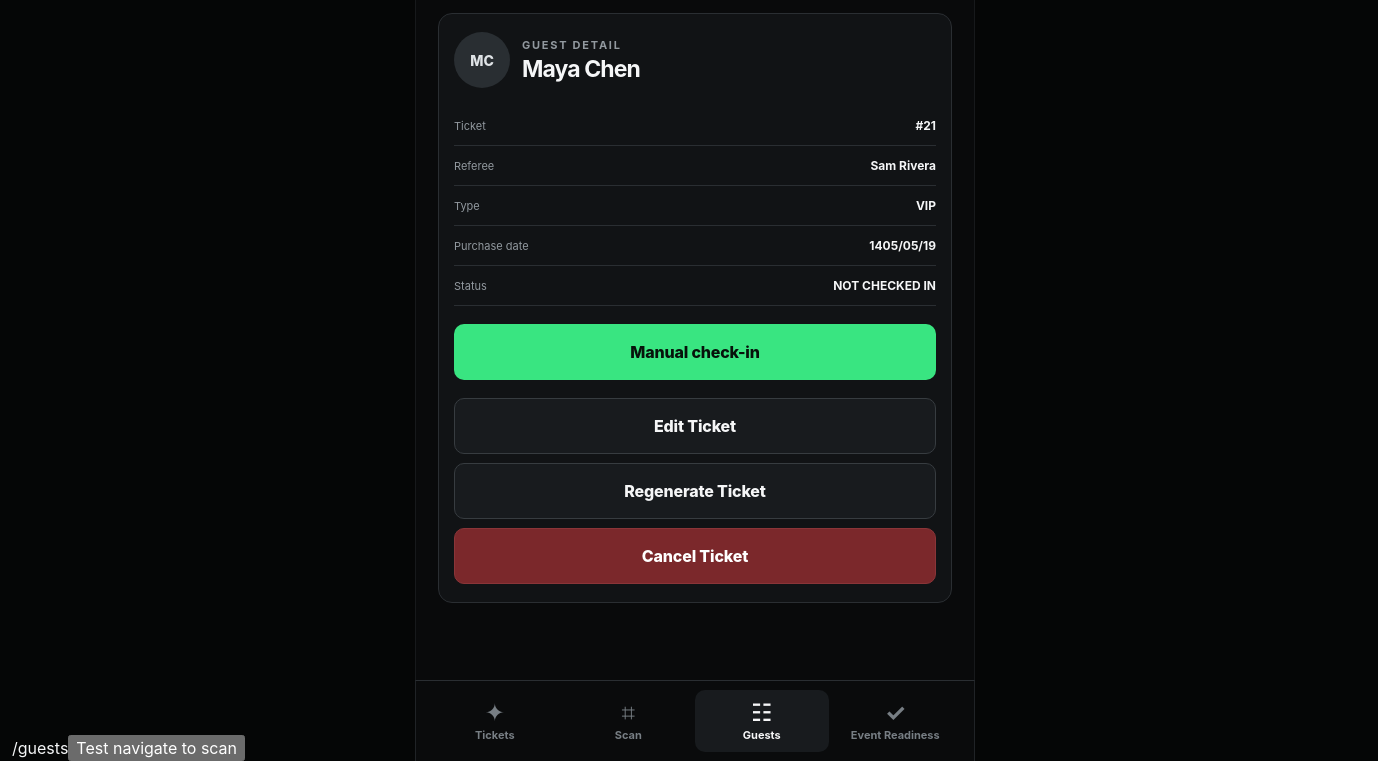
Test case: ticket correction UI › regenerates current artwork from the authoritative ticket record after a reload
The width and height of the screenshot is (1378, 761).
(page scrolled)
Click the button "Regenerate Ticket": x=695, y=492 [454,464,936,520]
(page scrolled)
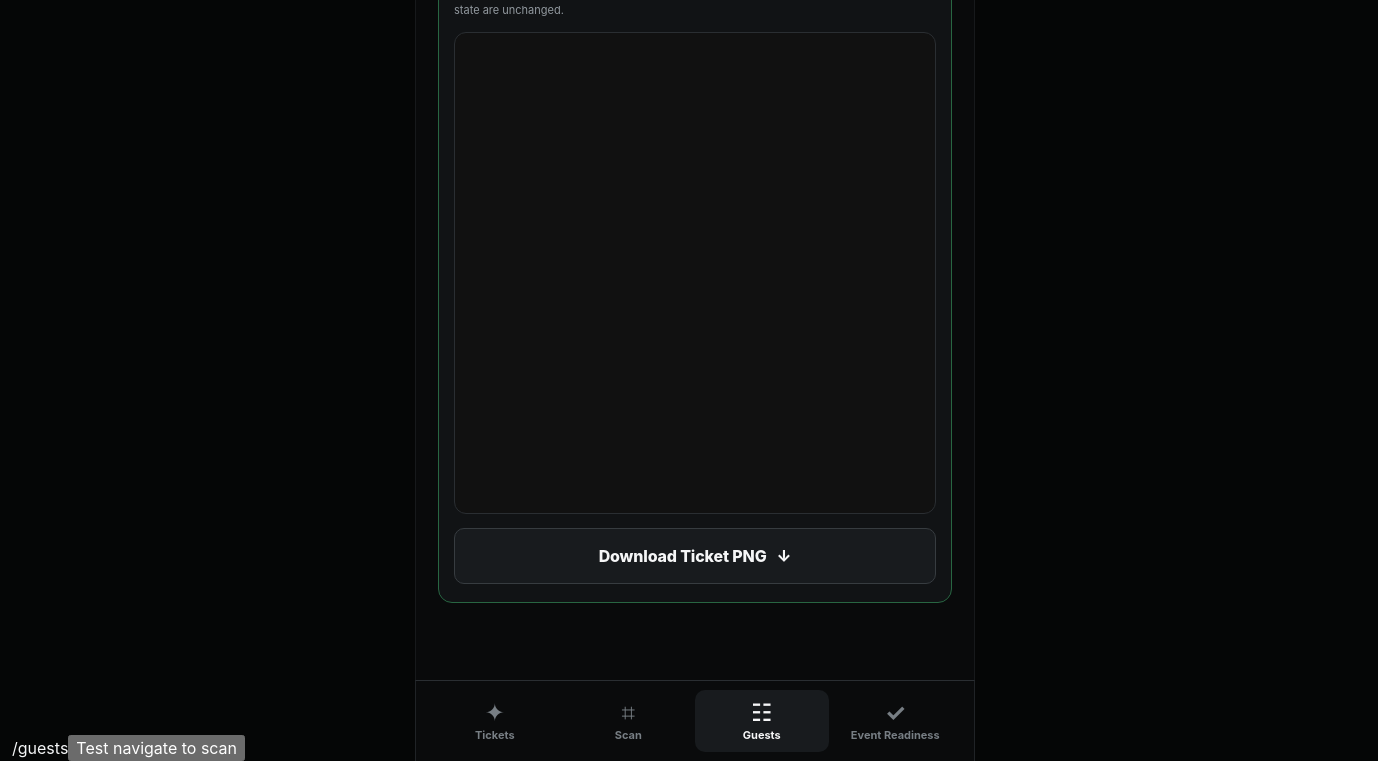
Expected: the button "Download Ticket PNG ↓" is enabled, [454,528,936,584]
